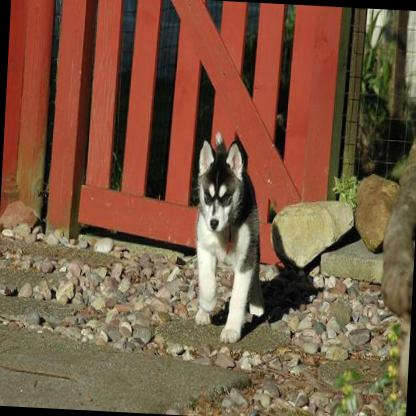Siberian_husky: (188, 127, 274, 346)
